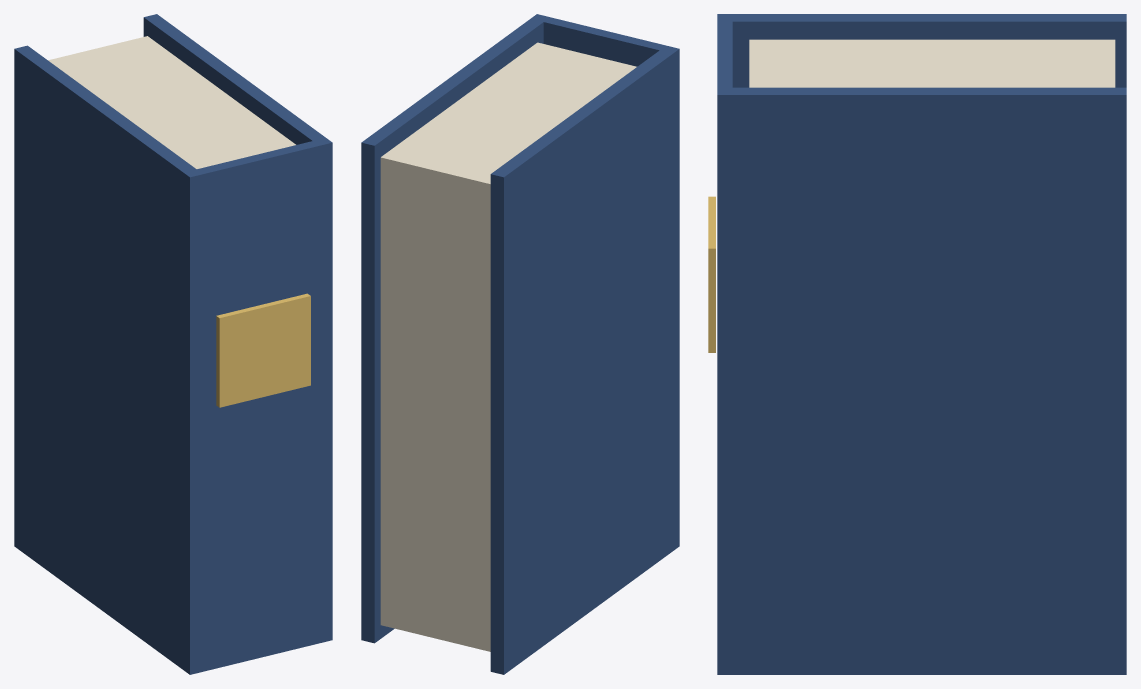
Rendered from book.glb.
The picture shows the model from 3 angles, left to right: view 1: azimuth 30°, elevation 25°; view 2: azimuth 150°, elevation 25°; view 3: azimuth 270°, elevation 25°; orthographic projection. The views are drawn at different scales.
Parts seen in each view (by area): view 1: Cover_mesh, Pages_mesh, Band_mesh; view 2: Cover_mesh, Pages_mesh; view 3: Cover_mesh, Pages_mesh, Band_mesh.
Part boxes in pixels (box(x1,y1,x2,y2)): Cover_mesh: box(14, 14, 332, 674); Pages_mesh: box(48, 36, 295, 168); Band_mesh: box(216, 293, 310, 407); Cover_mesh: box(361, 14, 679, 674); Pages_mesh: box(380, 42, 636, 651); Cover_mesh: box(717, 14, 1126, 674); Pages_mesh: box(749, 39, 1115, 87); Band_mesh: box(708, 196, 715, 352).
Size of the model in its own units: 0.075 by 0.25 by 0.1635.
